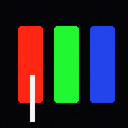4 line_v: (30, 75, 34, 121)
